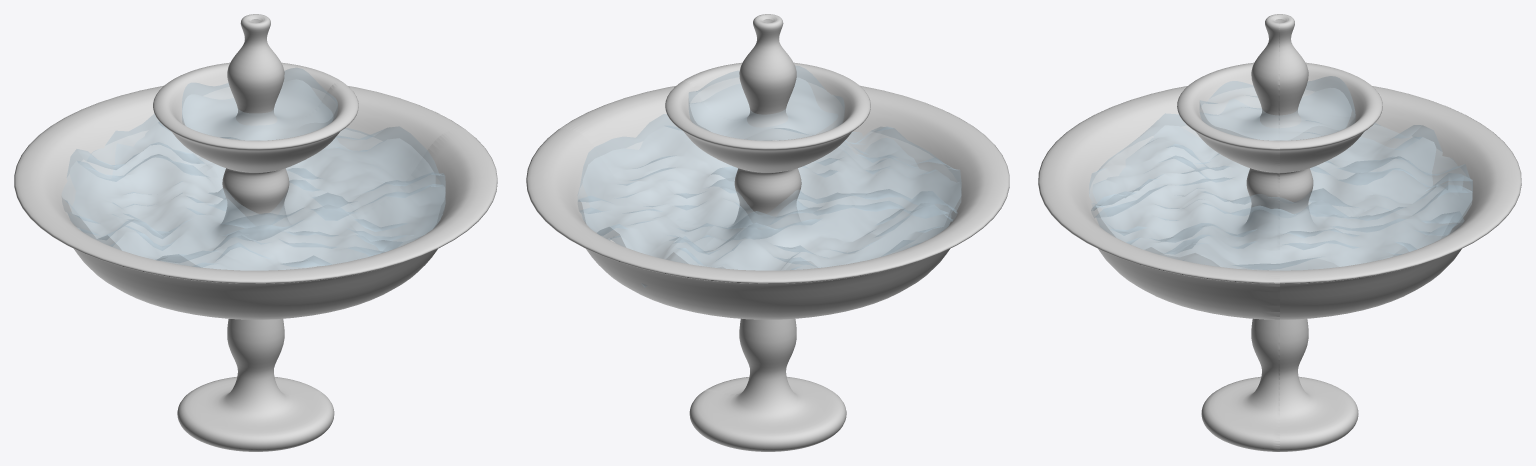
Rendered from fountain-2.glb.
3 views of the same model, side by side, from view 1: azimuth 30°, elevation 25°; view 2: azimuth 150°, elevation 25°; view 3: azimuth 270°, elevation 25° (orthographic).
Parts seen in each view (by area): view 1: 3DSMeshMatrix (×3); view 2: 3DSMeshMatrix (×3); view 3: 3DSMeshMatrix (×3).
Boxes of the visible parts, bbox=[...] form: 3DSMeshMatrix (×3): bbox=[14, 14, 497, 451]; 3DSMeshMatrix (×3): bbox=[526, 14, 1009, 451]; 3DSMeshMatrix (×3): bbox=[1038, 14, 1521, 451].
Size of the model in its own units: 96.67 by 89.03 by 96.71.
